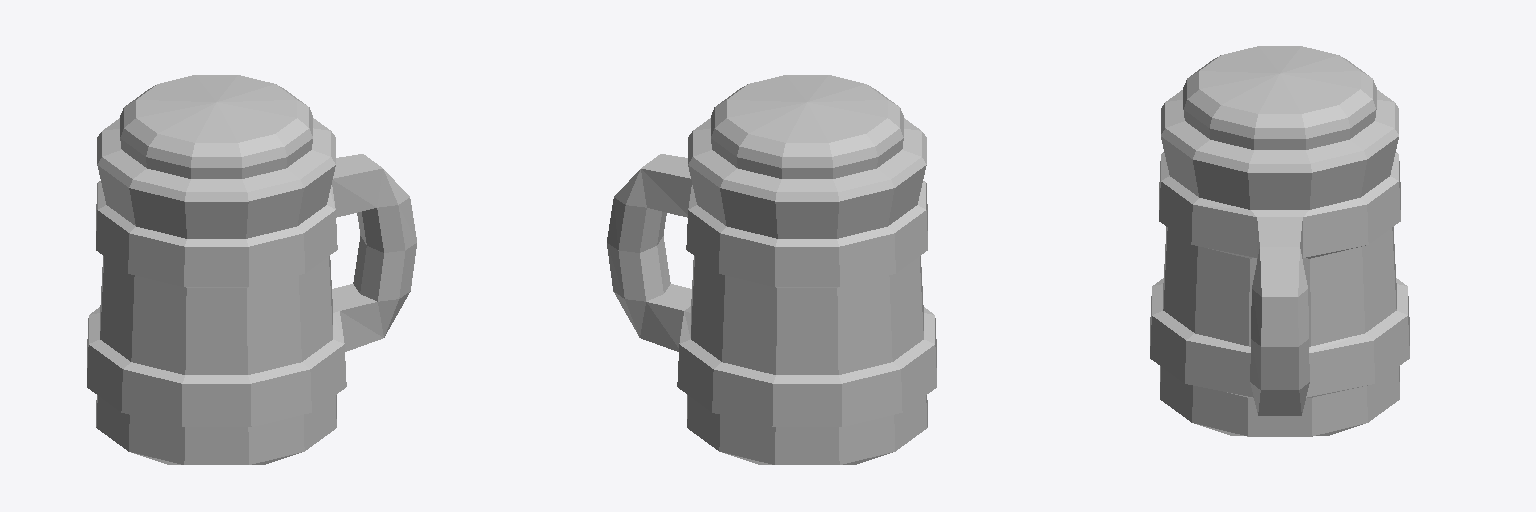
The model's file is mug_full_Large.obj.
3 views of the same model, side by side, from view 1: azimuth 30°, elevation 25°; view 2: azimuth 150°, elevation 25°; view 3: azimuth 270°, elevation 25° (orthographic).
Visible parts, largest first — view 1: mug_full_Large; view 2: mug_full_Large; view 3: mug_full_Large.
Part boxes in pixels (x1,y1,x2,y2): mug_full_Large: (87, 75, 416, 464); mug_full_Large: (607, 75, 936, 464); mug_full_Large: (1150, 46, 1409, 436).
Size of the model in its own units: 1.07 by 1.1 by 0.7919.